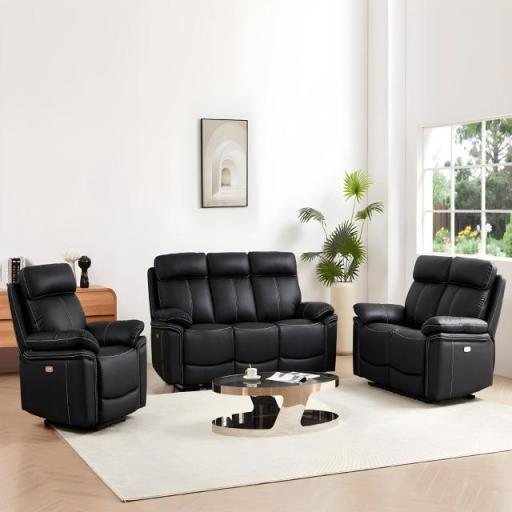sofa: (0, 229, 150, 487), (154, 231, 344, 415), (349, 227, 512, 417)
